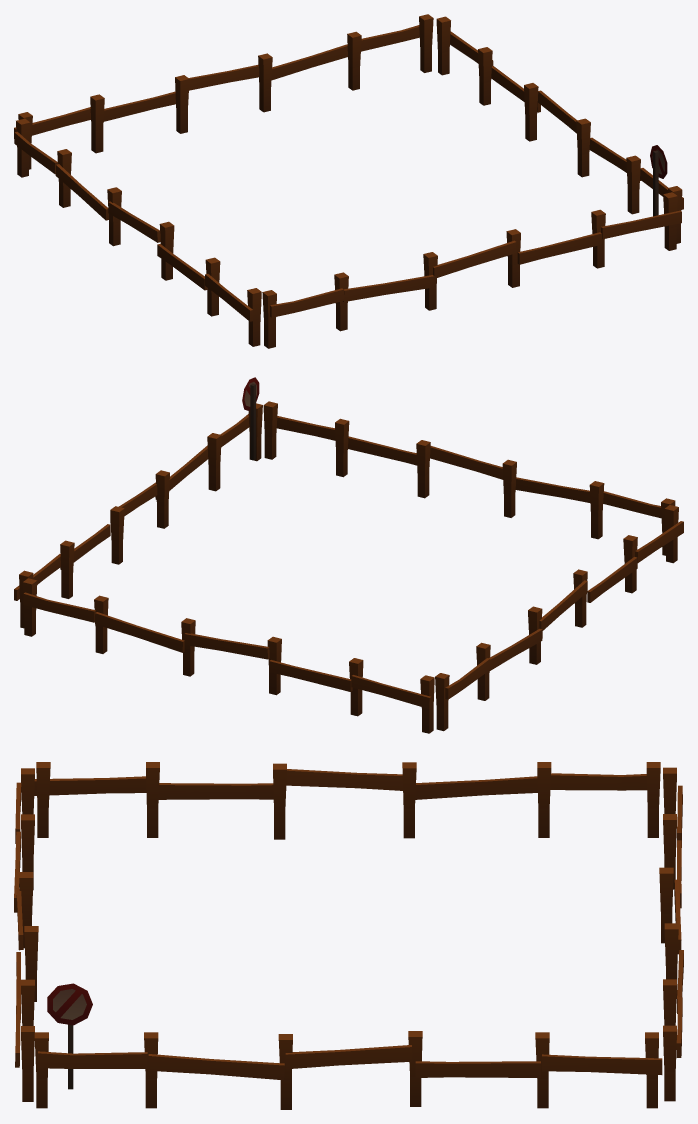
The model's file is field_border.fbx.
3 renders of one model, top to bottom at view 1: azimuth 30°, elevation 25°; view 2: azimuth 150°, elevation 25°; view 3: azimuth 270°, elevation 25°, orthographic. The views are drawn at different scales.
Visible parts, largest first — view 1: Circle.061; view 2: Circle.061; view 3: Circle.061.
Part boxes in pixels (left/top/right/bottom): Circle.061: left=14, top=14, right=683, bottom=348; Circle.061: left=14, top=377, right=683, bottom=733; Circle.061: left=14, top=762, right=683, bottom=1109.
Bounding box in the file's own units: 615 × 122 × 618.
